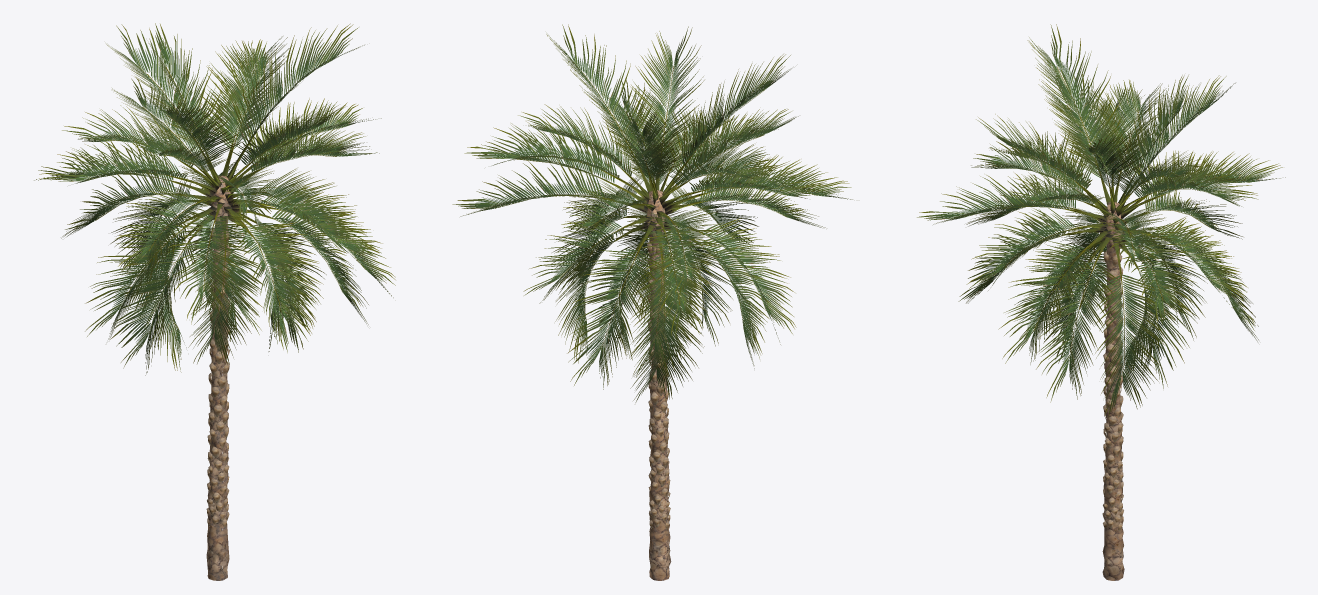
Rendered from date_palm.glb.
3 views of the same model, side by side, from view 1: azimuth 30°, elevation 25°; view 2: azimuth 150°, elevation 25°; view 3: azimuth 270°, elevation 25° (orthographic). The views are drawn at different scales.
Parts seen in each view (by area): view 1: date_palm; view 2: date_palm; view 3: date_palm.
Part boxes in pixels (left/top/right/bottom): date_palm: left=34, top=23, right=395, bottom=580; date_palm: left=452, top=24, right=852, bottom=580; date_palm: left=917, top=24, right=1285, bottom=580.
Bounding box in the file's own units: 4.46 × 6 × 4.26.
4 materials, 4 textured.
